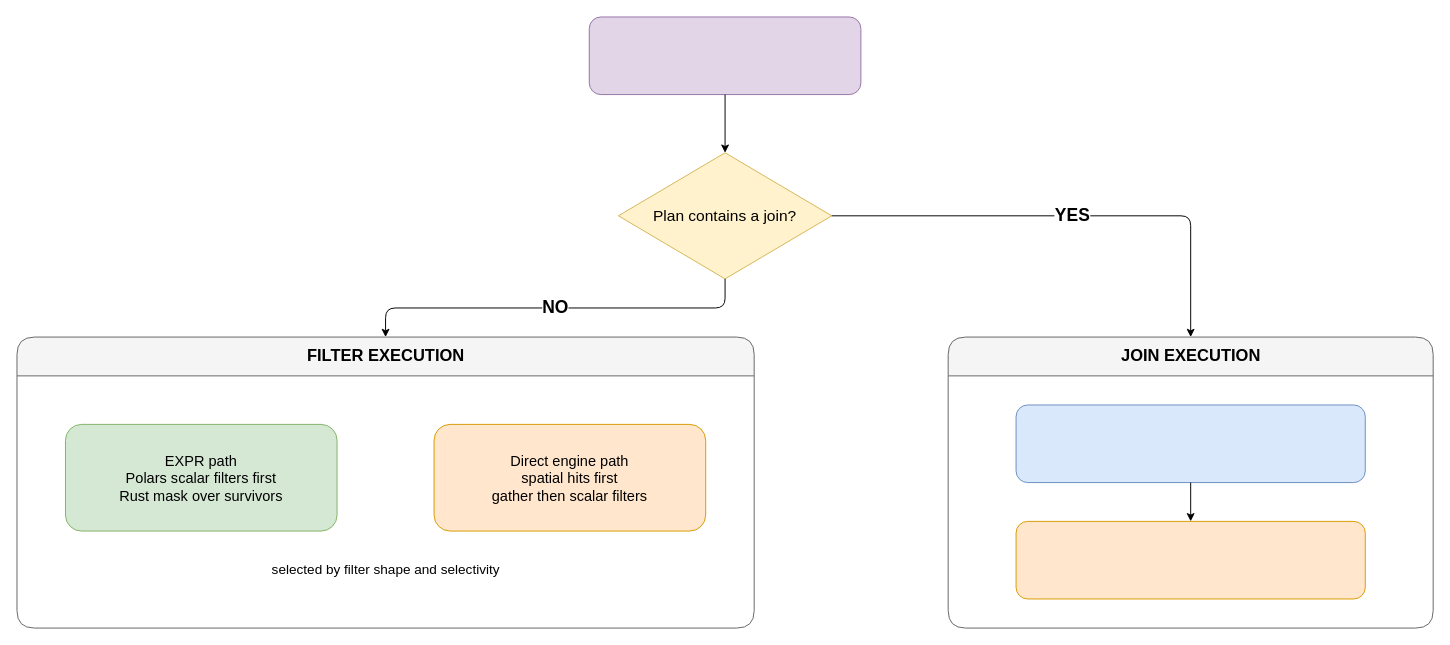
Image size: 1450x645. Some labels were removed from this diagram. Here are the shapes that lost their labels. From the top down, the centre of each, then its label:
At point 724,55: "Optimized node list".
At point 1190,443: "Probe exceeds batch size? slice into morsels if yes".
At point 1190,559: "Dedicated native join kernel gather pairs · run post-join nodes".
